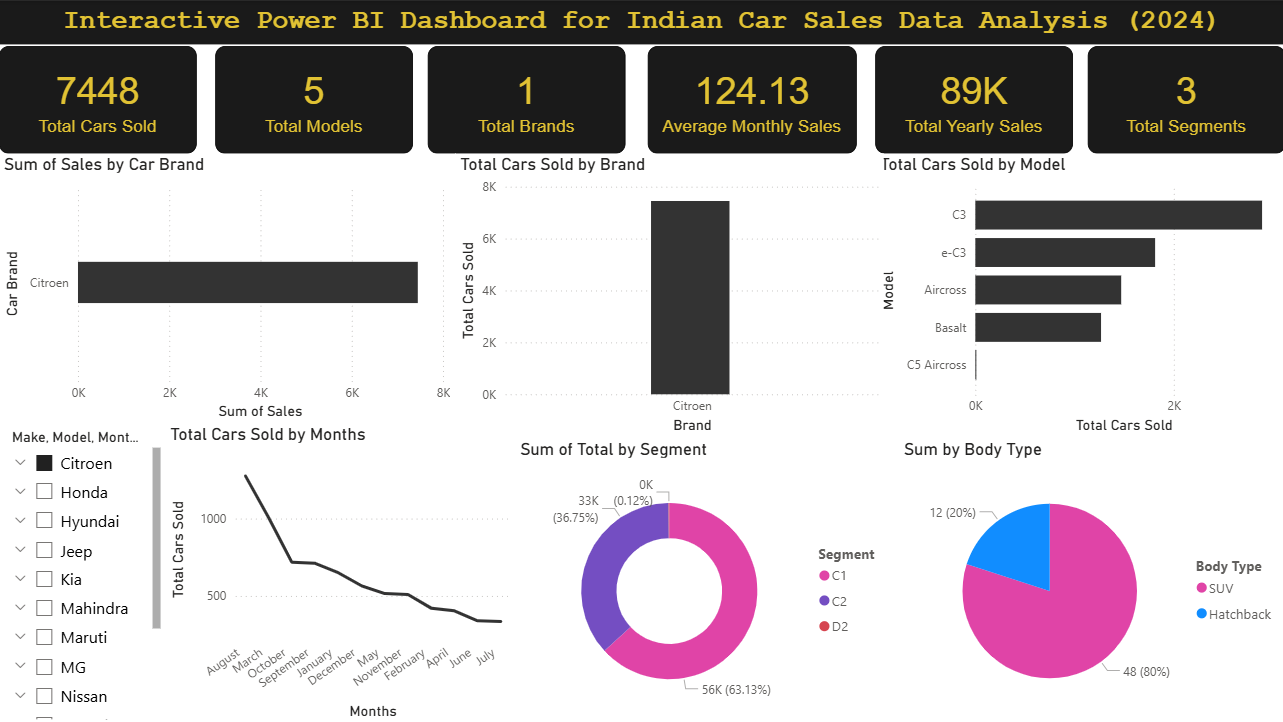

The page's visual inventory and layout, read from the dashboard file:
{"tool":"powerbi","page":{"name":"Page 1","canvas":[1280,720],"ordinal":0},"visuals":[{"type":"card","fields":{"Values":["Sheet1.Total Cars Sold"]},"box":[0,44.8,196.5,107],"z":0},{"type":"card","fields":{"Values":["Sheet1.Total Models"]},"box":[215.2,44.8,196.5,107],"z":1},{"type":"card","fields":{"Values":["Sheet1.Total Brands"]},"box":[426.7,44.8,196.5,107],"z":2},{"type":"card","fields":{"Values":["Car Sales.Average Monthly Sales"]},"box":[645.6,44.8,207.7,107],"z":3},{"type":"card","fields":{"Values":["Car Sales.Total Yearly Sales"]},"box":[872,44.8,196.5,107],"z":4},{"type":"card","fields":{"Values":["Car Sales.Total Segments"]},"box":[1083.4,44.8,196.5,107],"z":5},{"type":"clusteredBarChart","fields":{"Category":["Car Sales.Make"],"Y":["Sum(Car Sales.Sales)"]},"box":[0,151.8,454,269.9],"z":6},{"type":"pieChart","fields":{"Category":["Car Sales.Body Type"],"Y":["CountNonNull(Car Sales.Total)"]},"box":[895.7,435.4,384.4,284.9],"z":7},{"type":"donutChart","fields":{"Category":["Car Sales.Segment"],"Y":["Sum(Car Sales.Total)"]},"box":[513.8,435.4,381.9,284.9],"z":8},{"type":"barChart","fields":{"Category":["Car Sales.Model"],"Y":["Car Sales.Total Cars Sold"]},"box":[872,151.8,408,283.6],"z":10},{"type":"slicer","fields":{"Values":["Car Sales.Make","Car Sales.Model","Car Sales.Months","Car Sales.Body Type","Car Sales.Segment"]},"box":[0,420.5,165.4,299.8],"z":11},{"type":"lineChart","fields":{"Y":["Car Sales.Total Cars Sold"],"Category":["Car Sales.Months"]},"box":[165.4,420.5,348.3,299.8],"z":12},{"type":"lineClusteredColumnComboChart","fields":{"Y":["Car Sales.Total Cars Sold"],"Category":["Car Sales.Make"]},"box":[454,151.8,426.7,283.6],"z":13},{"type":"textbox","box":[0,0,1280,43.5],"z":14}]}

Visuals, with their boxes in screenshot pixels (x1, y1, x2, y2), scaled from the page's 1280x720 canvas onto the 1283x722 screenshot:
card - Sheet1.Total Cars Sold: select_region(0, 45, 197, 152)
card - Sheet1.Total Models: select_region(216, 45, 413, 152)
card - Sheet1.Total Brands: select_region(428, 45, 625, 152)
card - Car Sales.Average Monthly Sales: select_region(647, 45, 855, 152)
card - Car Sales.Total Yearly Sales: select_region(874, 45, 1071, 152)
card - Car Sales.Total Segments: select_region(1086, 45, 1282, 152)
clusteredBarChart - Car Sales.Make x Sum(Car Sales.Sales): select_region(0, 152, 455, 423)
pieChart - Car Sales.Body Type x CountNonNull(Car Sales.Total): select_region(898, 437, 1282, 721)
donutChart - Car Sales.Segment x Sum(Car Sales.Total): select_region(515, 437, 898, 721)
barChart - Car Sales.Model x Car Sales.Total Cars Sold: select_region(874, 152, 1282, 437)
slicer - Car Sales.Make x Car Sales.Model: select_region(0, 422, 166, 721)
lineChart - Car Sales.Total Cars Sold x Car Sales.Months: select_region(166, 422, 515, 721)
lineClusteredColumnComboChart - Car Sales.Total Cars Sold x Car Sales.Make: select_region(455, 152, 883, 437)
textbox: select_region(0, 0, 1282, 44)
